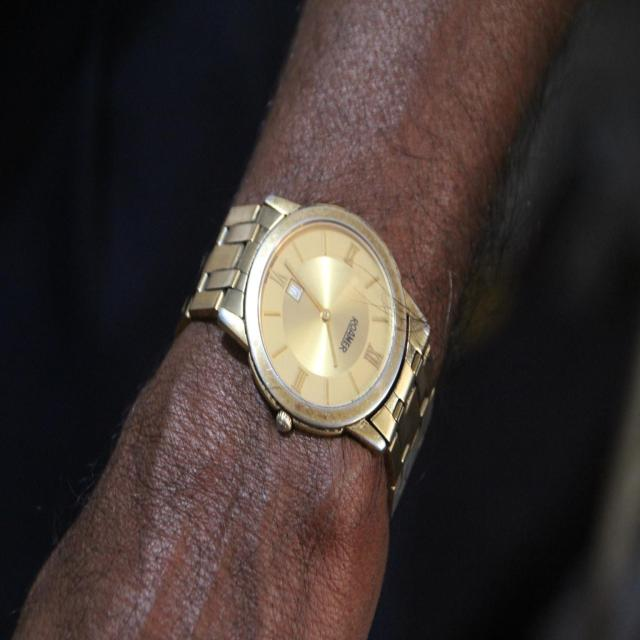Wrist watch: (187, 167, 450, 518)
